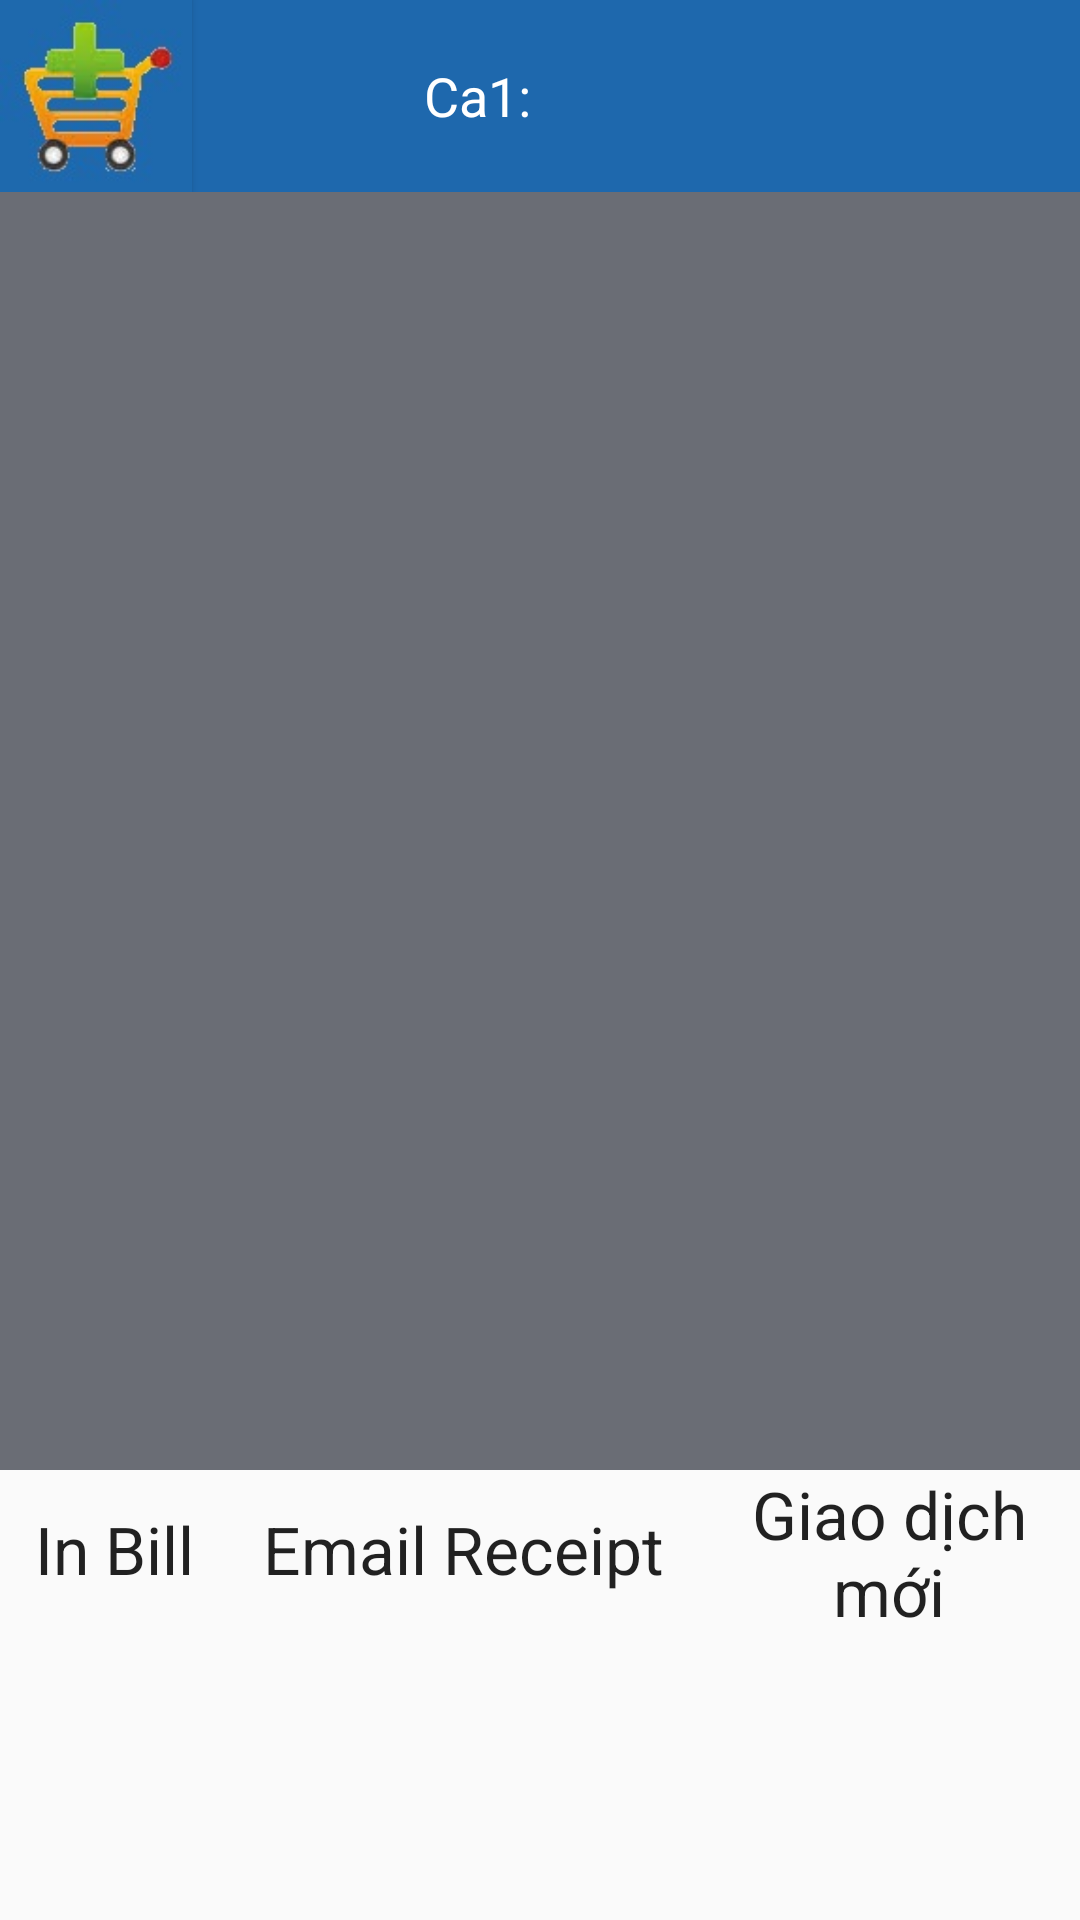

Named icons in this screenshot (1080x1920) and their bounding boxes, (x1, y1, x2, y2):
add product: (21, 21, 174, 173)
